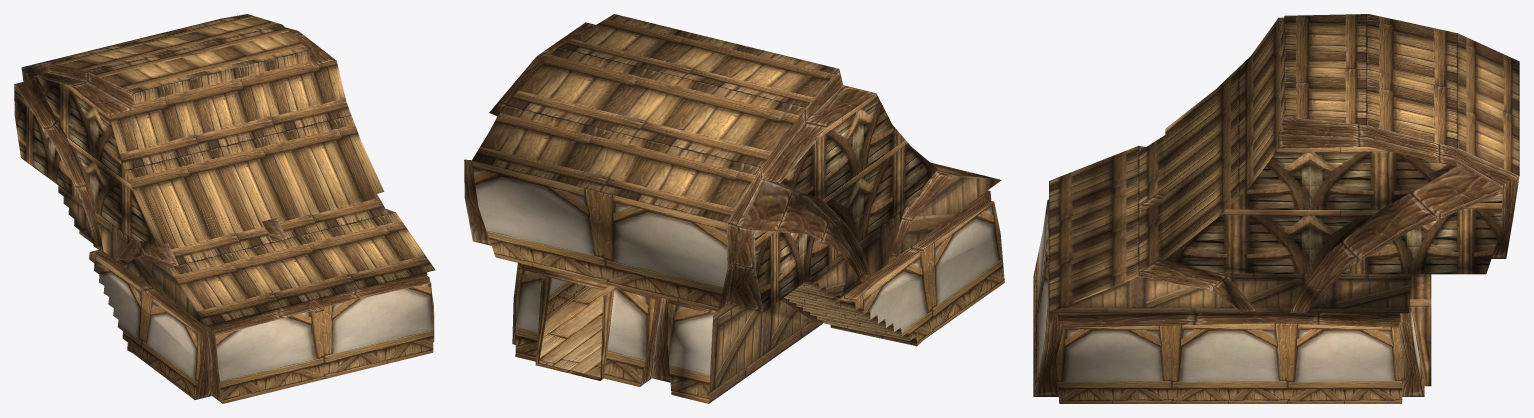
File: stormwind_074.fbx
3 views of the same model, side by side, from view 1: azimuth 30°, elevation 25°; view 2: azimuth 150°, elevation 25°; view 3: azimuth 270°, elevation 25° (orthographic). The views are drawn at different scales.
Parts seen in each view (by area): view 1: stormwind_074_55, stormwind_074_48, stormwind_074_53, stormwind_074_49, stormwind_074_56; view 2: stormwind_074_55, stormwind_074_48, stormwind_074_53, stormwind_074_49, stormwind_074_56, stormwind_074_51; view 3: stormwind_074_55, stormwind_074_48, stormwind_074_49, stormwind_074_53, stormwind_074_56.
Boxes of the visible parts, box(x1,y1,x2,y2) form: stormwind_074_55: box(24, 14, 435, 325); stormwind_074_48: box(79, 230, 433, 403); stormwind_074_53: box(14, 27, 434, 403); stormwind_074_49: box(14, 76, 156, 245); stormwind_074_56: box(58, 185, 205, 325); stormwind_074_55: box(472, 14, 1000, 222); stormwind_074_48: box(472, 160, 1004, 403); stormwind_074_53: box(464, 22, 993, 386); stormwind_074_49: box(535, 93, 937, 380); stormwind_074_56: box(708, 176, 1001, 403); stormwind_074_51: box(539, 287, 603, 377); stormwind_074_55: box(1049, 14, 1519, 312); stormwind_074_48: box(1033, 202, 1424, 403); stormwind_074_49: box(1164, 147, 1502, 386); stormwind_074_53: box(1033, 17, 1519, 396); stormwind_074_56: box(1049, 273, 1410, 313).
Size of the model in its own units: 14.85 by 13.56 by 22.13.
